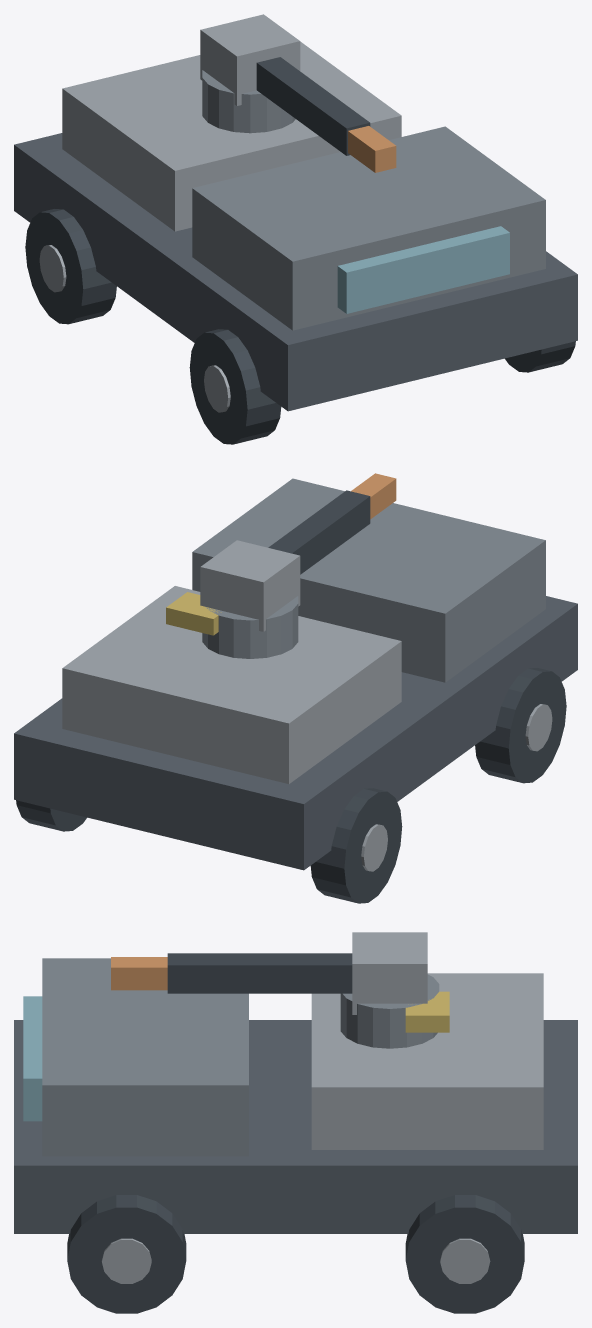
File: human_mg_jeep.glb
3 renders of one model, top to bottom at view 1: azimuth 30°, elevation 25°; view 2: azimuth 150°, elevation 25°; view 3: azimuth 270°, elevation 25°, orthographic. The views are drawn at different scales.
Parts seen in each view (by area): view 1: chassis, cockpit, rear_bed, windshield, wheel_-1_0, wheel_1_0, mg_turret, mg_barrel, mg_turret_base, mg_muzzle_flash, wheel_-1_1, wheel_1_0_hub (+1 smaller); view 2: chassis, rear_bed, cockpit, mg_turret, wheel_1_0, wheel_-1_0, mg_barrel, mg_turret_base, ammo_box, wheel_1_1, mg_muzzle_flash, wheel_-1_0_hub (+1 smaller); view 3: chassis, cockpit, rear_bed, wheel_-1_1, wheel_1_1, mg_barrel, mg_turret, mg_turret_base, windshield, mg_muzzle_flash, wheel_-1_1_hub, wheel_1_1_hub (+1 smaller).
Boxes of the visible parts, x1,y1,x2,y2 form: chassis: [14, 133, 577, 411]; cockpit: [192, 126, 545, 330]; rear_bed: [62, 41, 401, 231]; windshield: [337, 226, 509, 313]; wheel_-1_0: [189, 329, 281, 444]; wheel_1_0: [25, 209, 116, 324]; mg_turret: [200, 14, 300, 105]; mg_barrel: [256, 57, 370, 155]; mg_turret_base: [202, 70, 295, 133]; mg_muzzle_flash: [348, 126, 396, 172]; wheel_-1_1: [505, 341, 575, 372]; wheel_1_0_hub: [39, 245, 66, 292]; chassis: [14, 596, 577, 870]; rear_bed: [62, 586, 401, 783]; cockpit: [192, 478, 545, 682]; mg_turret: [200, 540, 300, 631]; wheel_1_0: [310, 788, 402, 903]; wheel_-1_0: [475, 668, 566, 783]; mg_barrel: [268, 490, 370, 574]; mg_turret_base: [202, 596, 298, 658]; ammo_box: [166, 592, 221, 635]; wheel_1_1: [16, 800, 86, 831]; mg_muzzle_flash: [351, 473, 396, 519]; wheel_-1_0_hub: [525, 704, 552, 751]; chassis: [14, 1020, 577, 1233]; cockpit: [42, 958, 248, 1156]; rear_bed: [311, 973, 543, 1149]; wheel_-1_1: [67, 1195, 186, 1313]; wheel_1_1: [405, 1195, 524, 1313]; mg_barrel: [167, 953, 352, 993]; mg_turret: [352, 932, 427, 1014]; mg_turret_base: [340, 974, 439, 1048]; windshield: [23, 996, 42, 1121]; mg_muzzle_flash: [111, 957, 167, 990]; wheel_-1_1_hub: [101, 1238, 151, 1283]; wheel_1_1_hub: [440, 1238, 490, 1283].
Size of the model in its own units: 1.27 by 0.9871 by 1.8.
